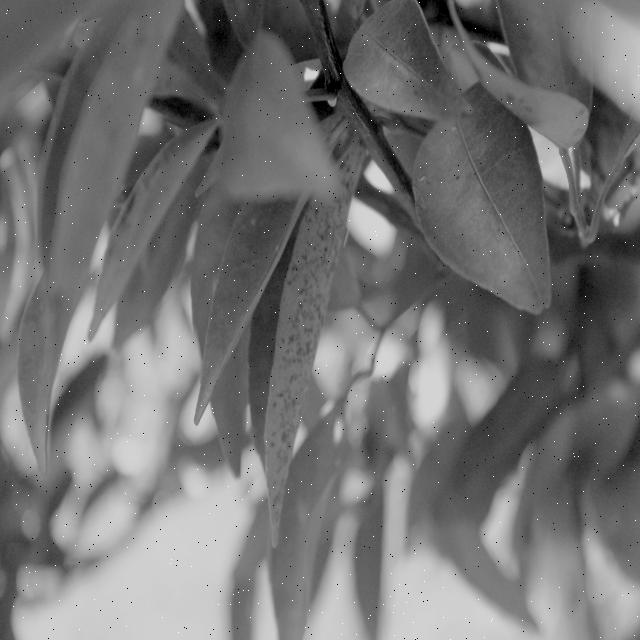melanose: (254, 139, 371, 534)
